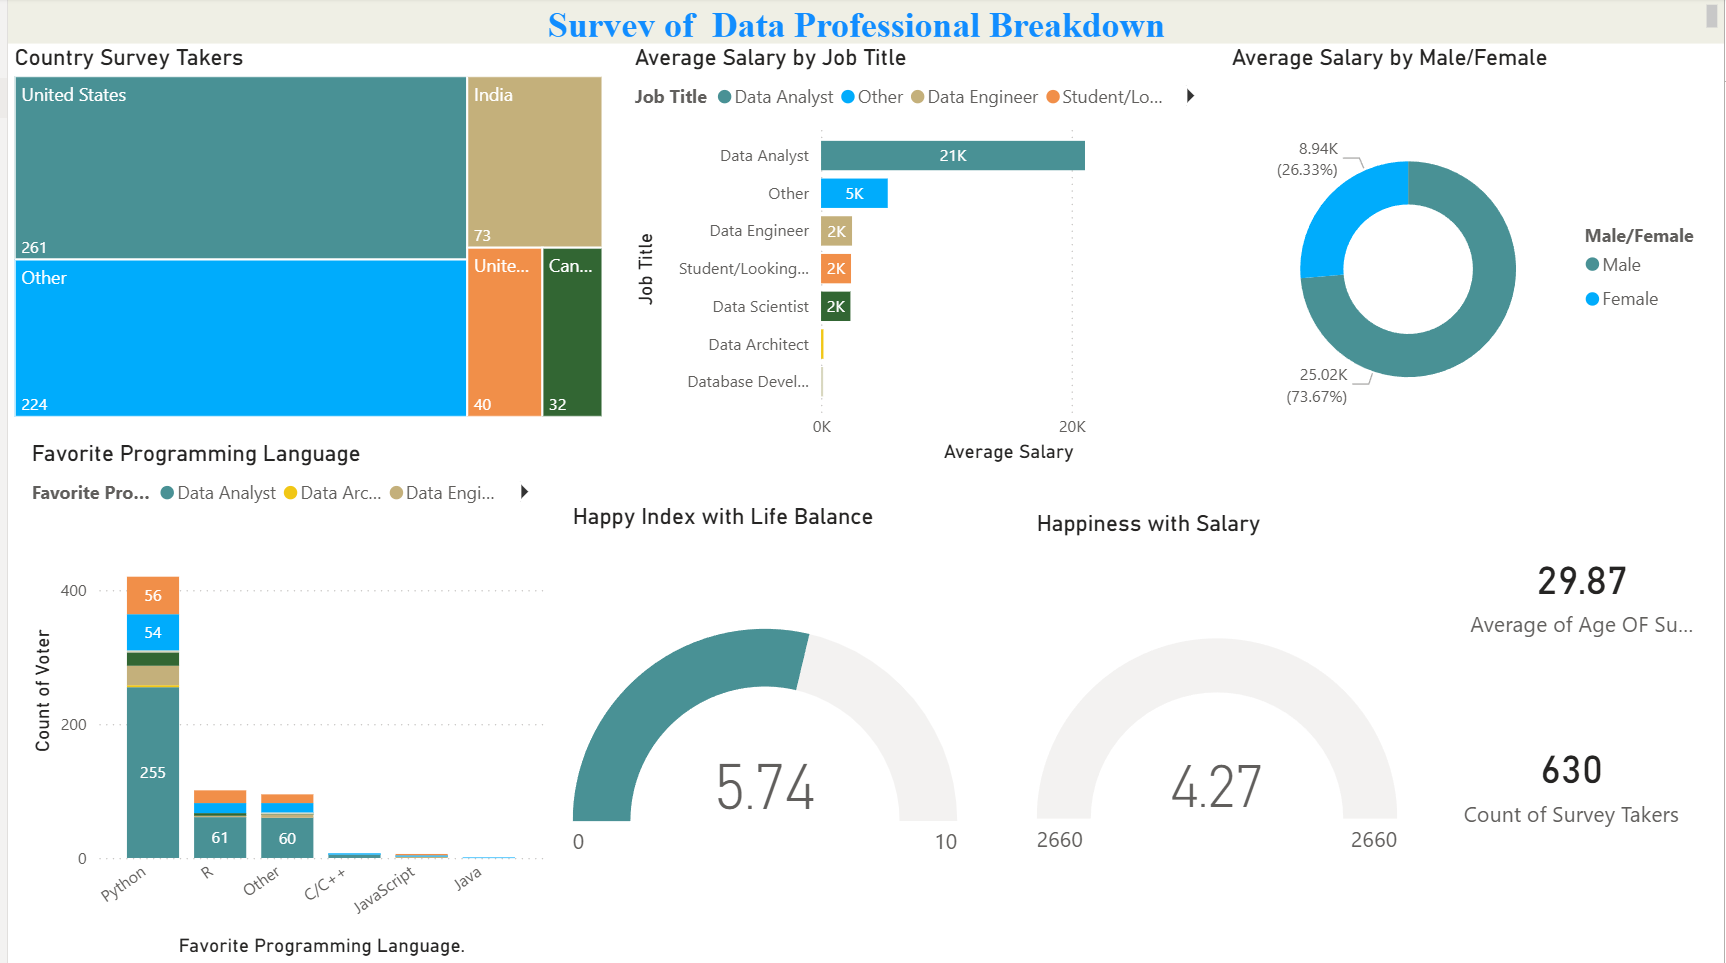

The dashboard page shown, as its layout file describes it:
{"tool":"powerbi","page":{"name":"Page 1","canvas":[1280,720],"ordinal":0},"visuals":[{"type":"textbox","box":[0,0,1280,34],"z":0},{"type":"card","fields":{"Values":["CountNonNull(Data Professional Survey.Unique ID)"]},"box":[1068.9,528.9,194.7,110.4],"z":1000},{"type":"card","title":"Average of Survey  Age","fields":{"Values":["Avg(Data Professional Survey.Q10 - Current Age)"]},"box":[1084.6,381.9,179,121.6],"z":2000},{"type":"barChart","title":"Average Salary by Job Title","fields":{"Category":["Data Professional Survey.Q1 - Which Title Best Fits your Current Role?.1"],"Y":["Sum(Data Professional Survey.Average Salary)"],"Series":["Data Professional Survey.Q1 - Which Title Best Fits your Current Role?.1"]},"box":[462.5,34.3,439.3,317],"z":3000},{"type":"columnChart","title":"Favorite Programming Language","fields":{"Category":["Data Professional Survey.Q5 - Favorite Programming Language.1"],"Y":["CountNonNull(Data Professional Survey.Unique ID)"],"Series":["Data Professional Survey.Q1 - Which Title Best Fits your Current Role?.1"]},"box":[12.7,329.7,391.6,390.1],"z":4000},{"type":"treemap","title":"Country Survey Takers","fields":{"Group":["Data Professional Survey.Q11 - Which Country do you live in?.1.1"],"Values":["CountNonNull(Data Professional Survey.Q4 - What Industry do you work in?.1)"]},"box":[0,34.5,448.5,283.1],"z":5000},{"type":"gauge","title":"Happy Index with Life Balance","fields":{"Y":["Avg(Data Professional Survey.Q6 - How Happy are you in your Current Position with the following? (Work/Life Balance))"],"MinValue":["Min(Data Professional Survey.Q6 - How Happy are you in your Current Position with the following? (Upward Mobility))"],"MaxValue":["Max(Data Professional Survey.Q6 - How Happy are you in your Current Position with the following? (Salary))"]},"box":[416.2,376.7,296.9,343.1],"z":5001},{"type":"gauge","title":"Happiness with Salary","fields":{"Y":["Avg(Data Professional Survey.Q6 - How Happy are you in your Current Position with the following? (Salary))"],"MinValue":["Sum(Data Professional Survey.Q6 - How Happy are you in your Current Position with the following? (Salary))"],"MaxValue":["Sum(Data Professional Survey.Q6 - How Happy are you in your Current Position with the following? (Salary))"]},"box":[762.3,381.9,279,337.9],"z":5002},{"type":"donutChart","title":"Average Salary by Male/Female","fields":{"Category":["Data Professional Survey.Q9 - Male/Female?"],"Y":["Sum(Data Professional Survey.Average Salary)"]},"box":[907.8,34.3,372.2,317],"z":5003}]}

Visuals, with their boxes in screenshot pixels (x1, y1, x2, y2), scaled from the page's 1280x720 canvas onto the 1726x963 screenshot:
textbox: [0, 0, 1725, 45]
card - CountNonNull(Data Professional Survey.Unique ID): [1441, 707, 1704, 855]
"Average of Survey  Age" card: [1463, 511, 1704, 673]
"Average Salary by Job Title" barChart: [624, 46, 1216, 470]
"Favorite Programming Language" columnChart: [17, 441, 545, 962]
"Country Survey Takers" treemap: [0, 46, 605, 425]
"Happy Index with Life Balance" gauge: [561, 504, 962, 962]
"Happiness with Salary" gauge: [1028, 511, 1404, 962]
"Average Salary by Male/Female" donutChart: [1224, 46, 1725, 470]
